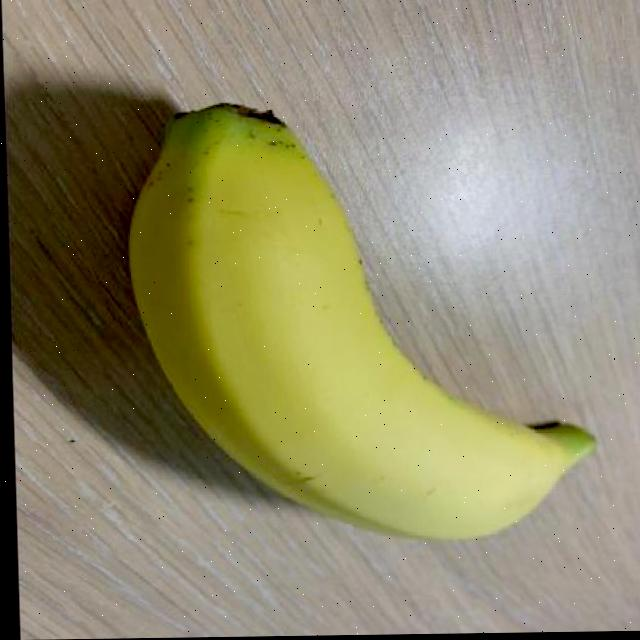banana: (107, 91, 610, 553)
